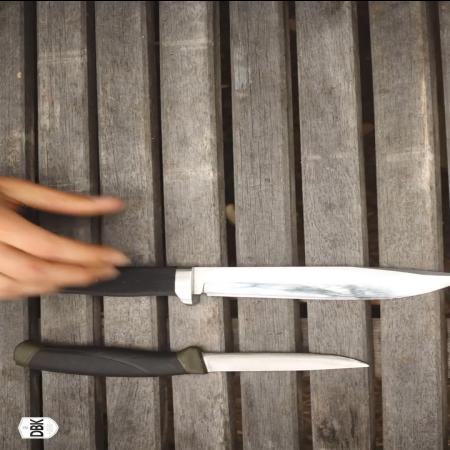long weapon: (56, 235, 450, 314), (174, 341, 380, 383)
